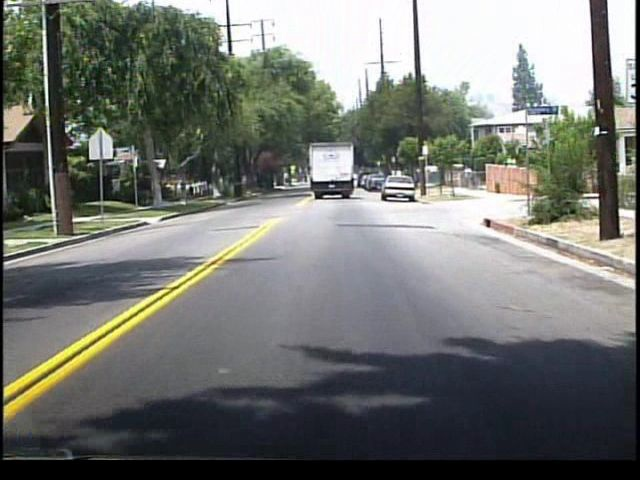person: (462, 164, 473, 190)
